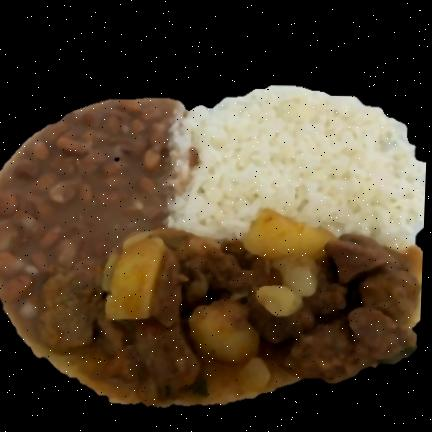beans: (0, 99, 177, 332)
meat: (41, 230, 421, 401)
potato: (243, 210, 334, 315)
rice: (168, 86, 425, 249)
